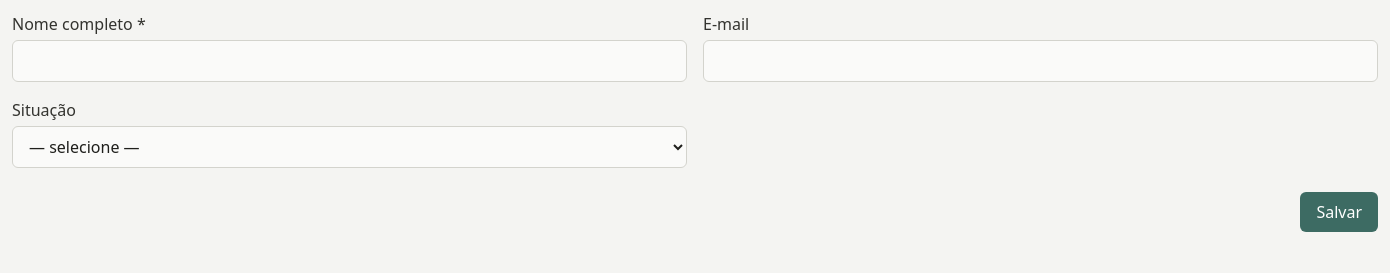
Test: FormBuilder / validação › mostra erro ao submeter sem campo obrigatório
Click the button "Salvar" at (1339, 212), box [1300,192,1378,232]
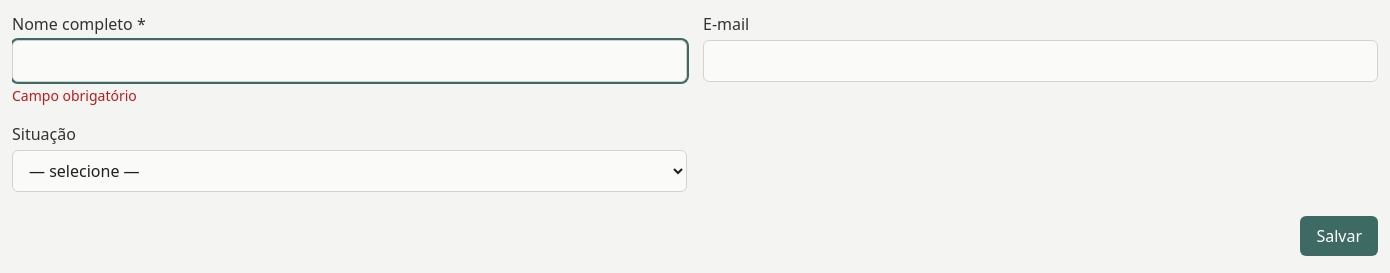
Now the text "Campo obrigatório" is shown, box [12,86,137,105]
